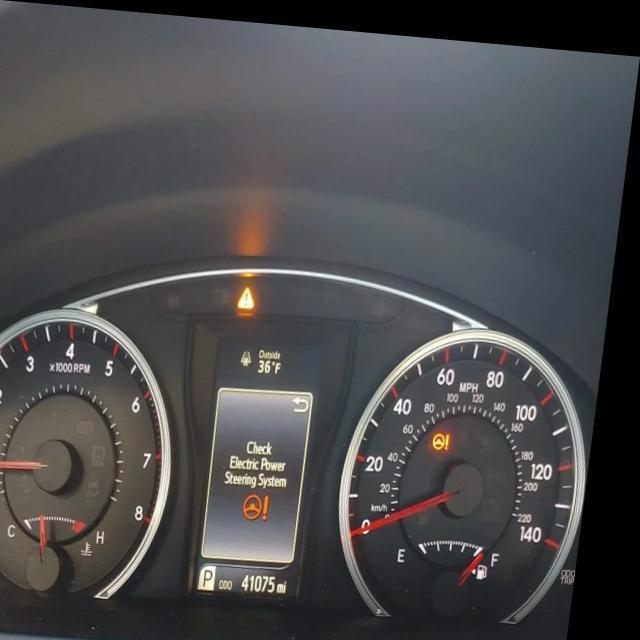Electronic Power Steering: (242, 492, 272, 526), (428, 430, 452, 455)
